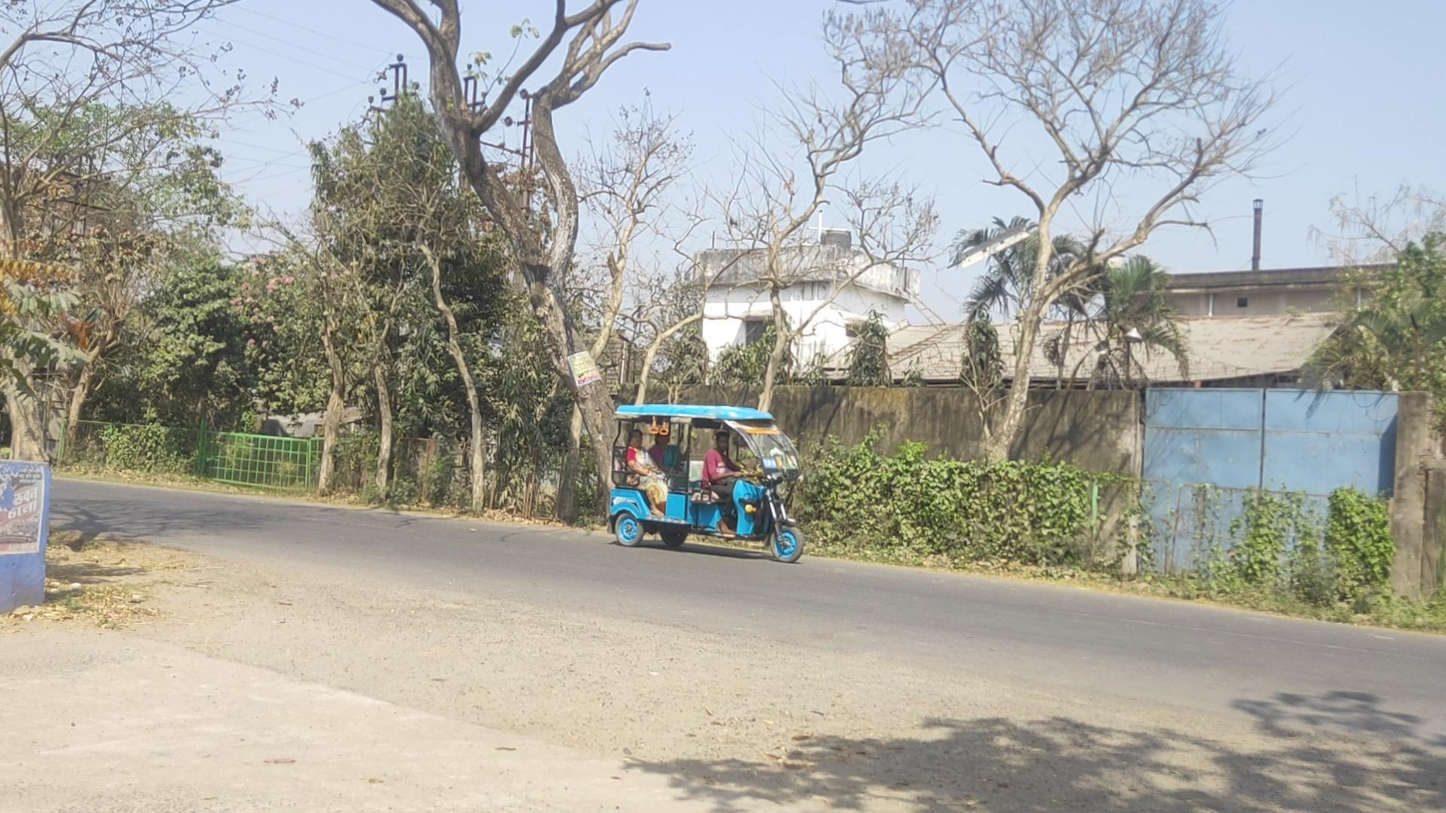Auto: (608, 404, 804, 564)
